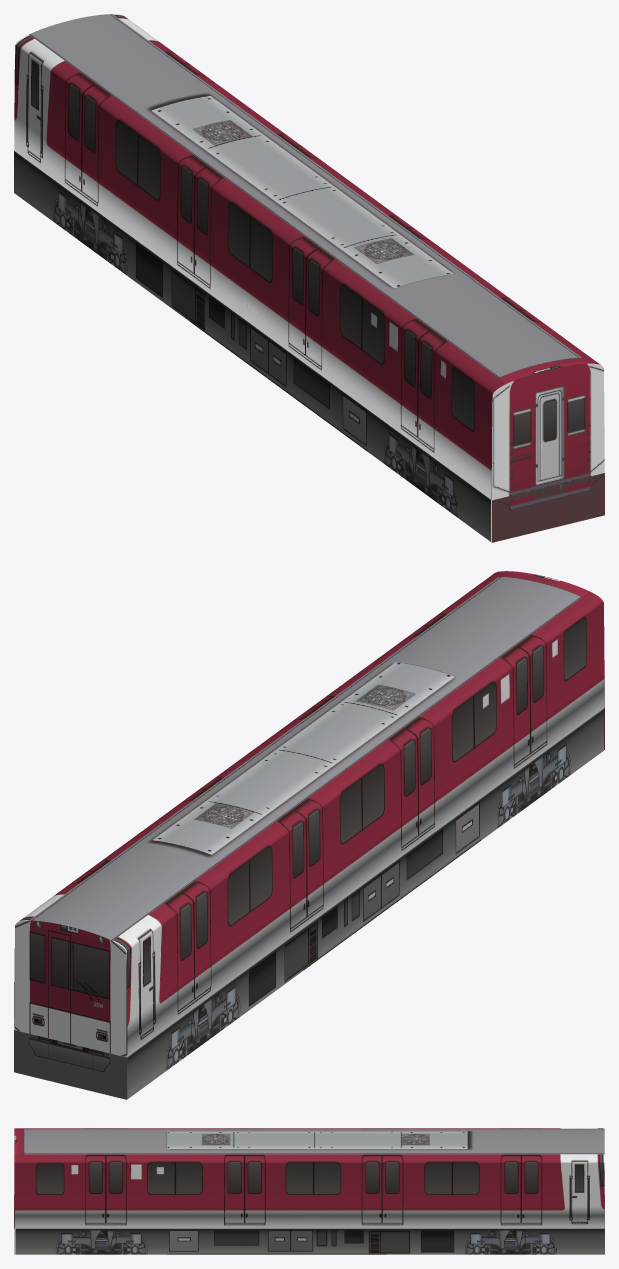
Rendered from car6.glb.
The picture shows the model from 3 angles, top to bottom: view 1: azimuth 30°, elevation 25°; view 2: azimuth 150°, elevation 25°; view 3: azimuth 270°, elevation 25°; orthographic projection. The views are drawn at different scales.
Visible parts, largest first — view 1: kintetsu-3200-car6; view 2: kintetsu-3200-car6; view 3: kintetsu-3200-car6.
Boxes of the visible parts, box(x1,y1,x2,y2) form: kintetsu-3200-car6: box(14, 14, 604, 542); kintetsu-3200-car6: box(14, 571, 604, 1099); kintetsu-3200-car6: box(14, 1128, 604, 1254).
Size of the model in its own units: 2.8 by 3.77 by 20.53.
8 materials, 7 textured.
